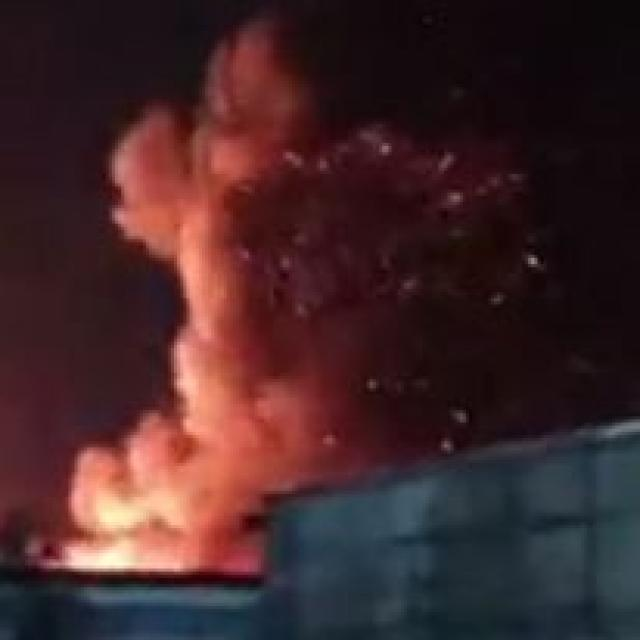Fire: (65, 492, 268, 585)
Smoke: (67, 6, 542, 538)
